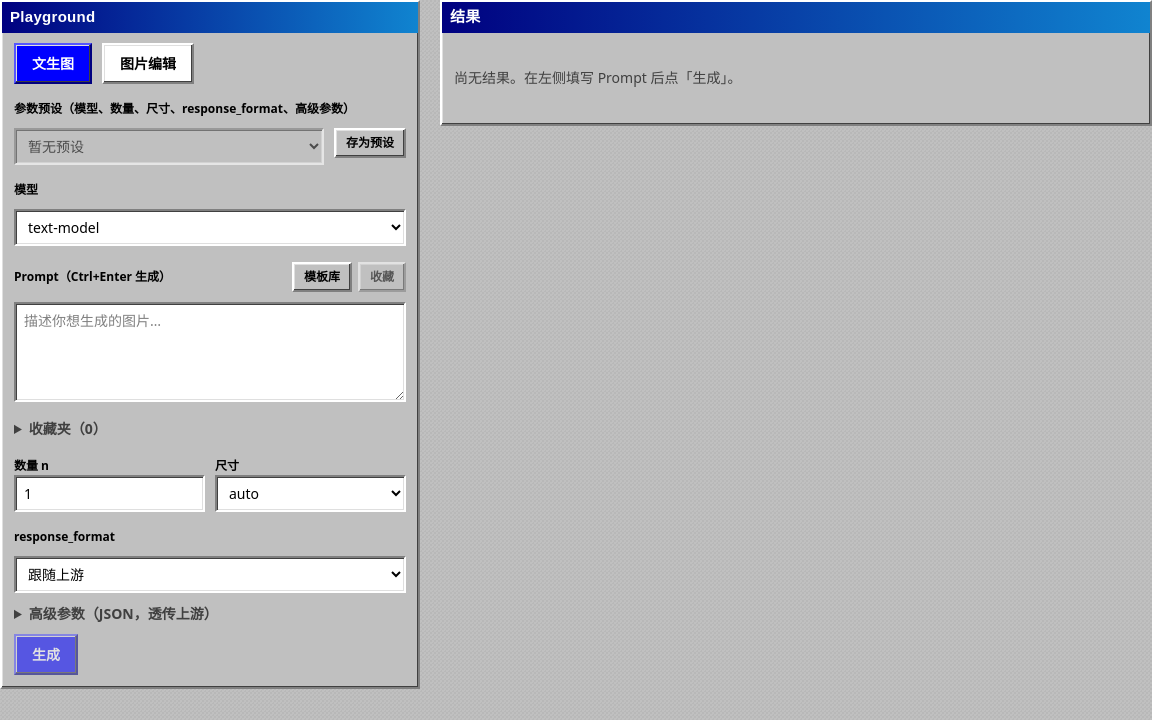
Scenario: Playground edit mode › switches to an image-to-image model when the edit tab is clicked
Click the button "图片编辑": (148,63) [102,42,194,84]
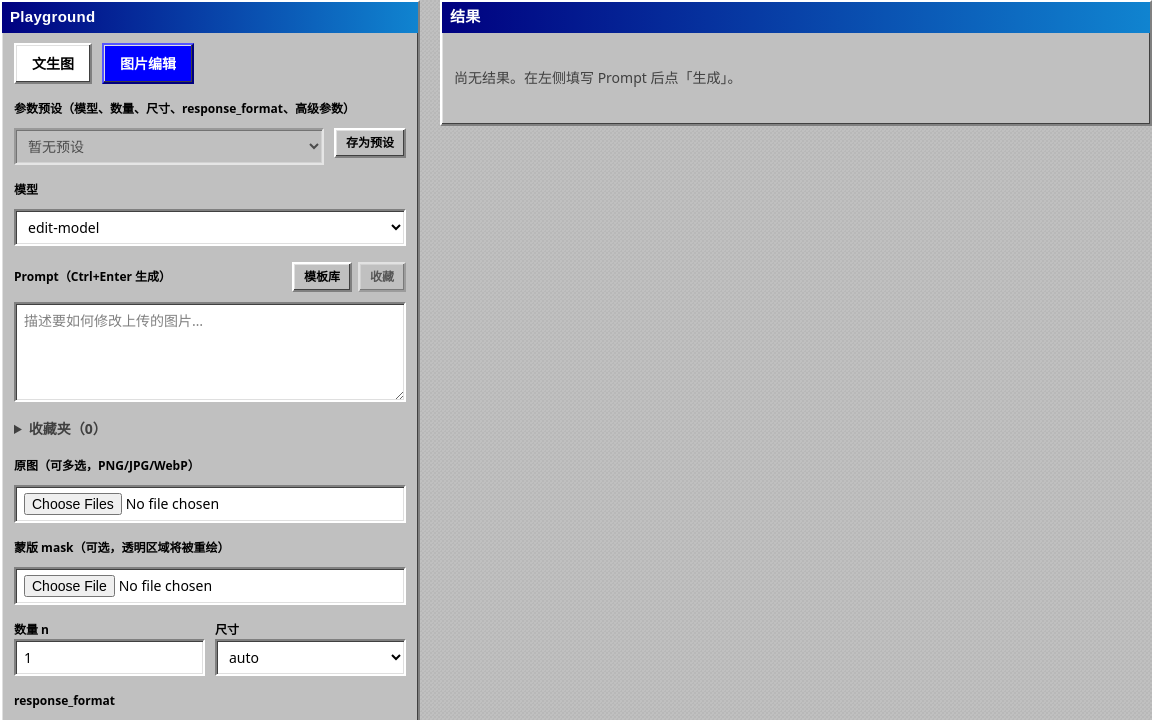
Now the dropdown labelled "模型" shows "edit-model", box [14,208,406,246]
Now the file field labelled "原图（可多选，PNG/JPG/WebP）" is shown, box [14,484,406,522]
